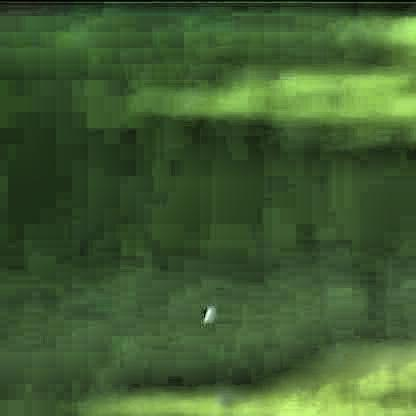golfball: (200, 295, 213, 319)
